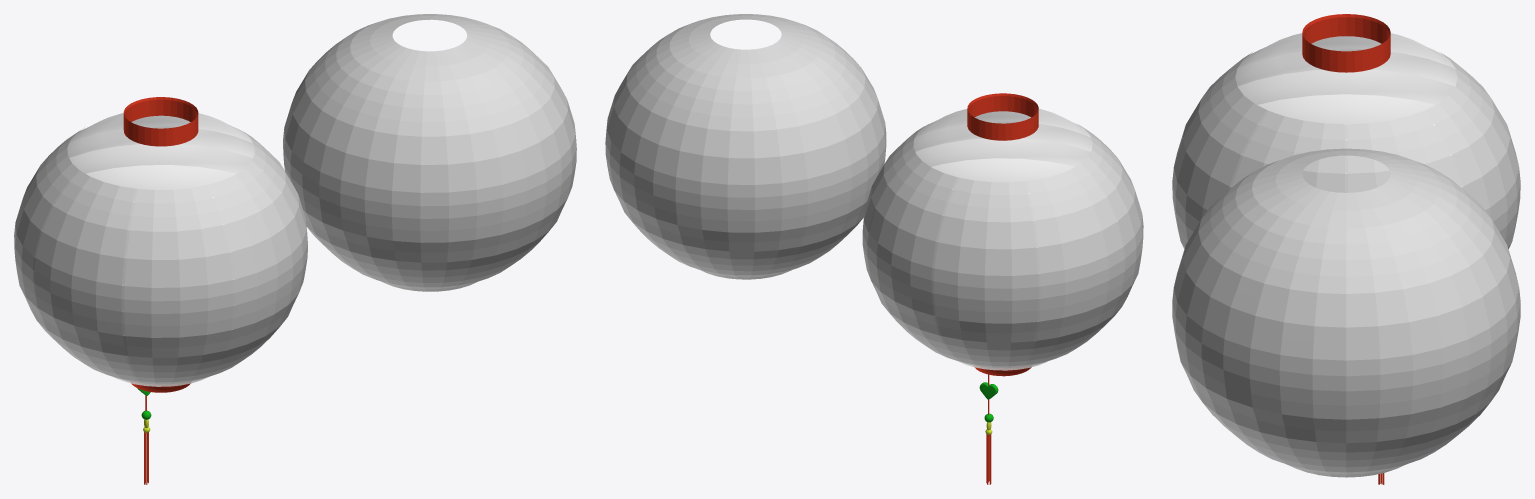
The model's file is ランタン_完成.glb.
The picture shows the model from 3 angles, left to right: view 1: azimuth 30°, elevation 25°; view 2: azimuth 150°, elevation 25°; view 3: azimuth 270°, elevation 25°; orthographic projection. The views are drawn at different scales.
Parts seen in each view (by area): view 1: 球.001, 球.002, 球, うえ, 骨; view 2: 球.001, 球.002, 球, うえ, 骨; view 3: 球.001, 球.002, 球, うえ, 骨.
Boxes of the visible parts, box(x1,y1,x2,y2) form: 球.001: box(283, 14, 576, 291); 球.002: box(14, 130, 307, 384); 球: box(34, 113, 301, 386); うえ: box(123, 97, 198, 146); 骨: box(33, 140, 303, 383); 球.001: box(605, 14, 886, 279); 球.002: box(862, 124, 1143, 368); 球: box(868, 109, 1123, 370); うえ: box(967, 93, 1038, 140); 骨: box(866, 130, 1125, 367); 球.001: box(1172, 148, 1520, 477); 球.002: box(1172, 52, 1520, 248); 球: box(1173, 33, 1519, 186); うえ: box(1302, 14, 1390, 72); 骨: box(1172, 77, 1520, 192).
Bounding box in the file's own units: 9.95 × 7.15 × 4.84.
